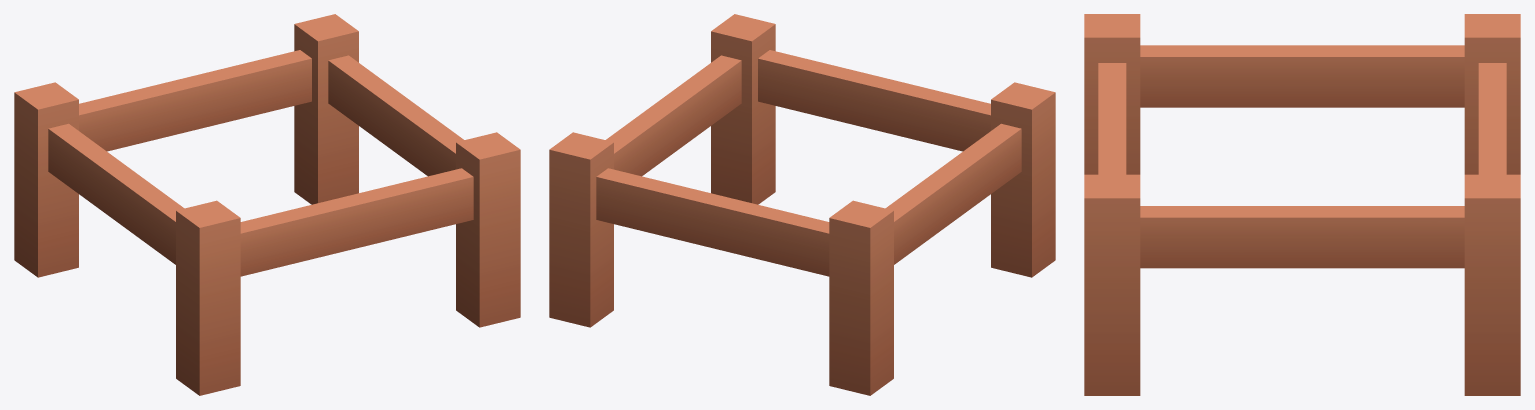
The model's file is kenney-tower-defense-wood-structure.glb.
The picture shows the model from 3 angles, left to right: view 1: azimuth 30°, elevation 25°; view 2: azimuth 150°, elevation 25°; view 3: azimuth 270°, elevation 25°; orthographic projection. The views are drawn at different scales.
Visible parts, largest first — view 1: wood-structure; view 2: wood-structure; view 3: wood-structure.
Part boxes in pixels (x1,y1,x2,y2): wood-structure: (14,14,520,395); wood-structure: (549,14,1055,395); wood-structure: (1084,14,1520,395).
Size of the model in its own units: 1 by 0.5001 by 1.
1 material, 1 textured.
